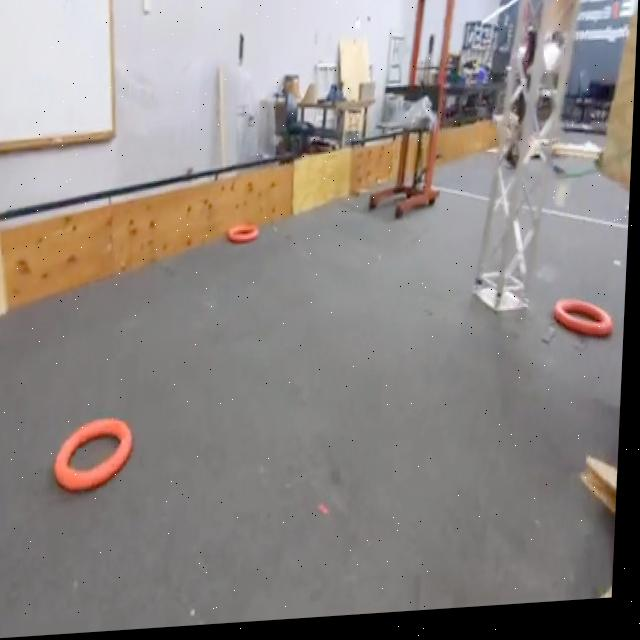note: (55, 424, 136, 495), (556, 302, 619, 349), (229, 225, 264, 250)
